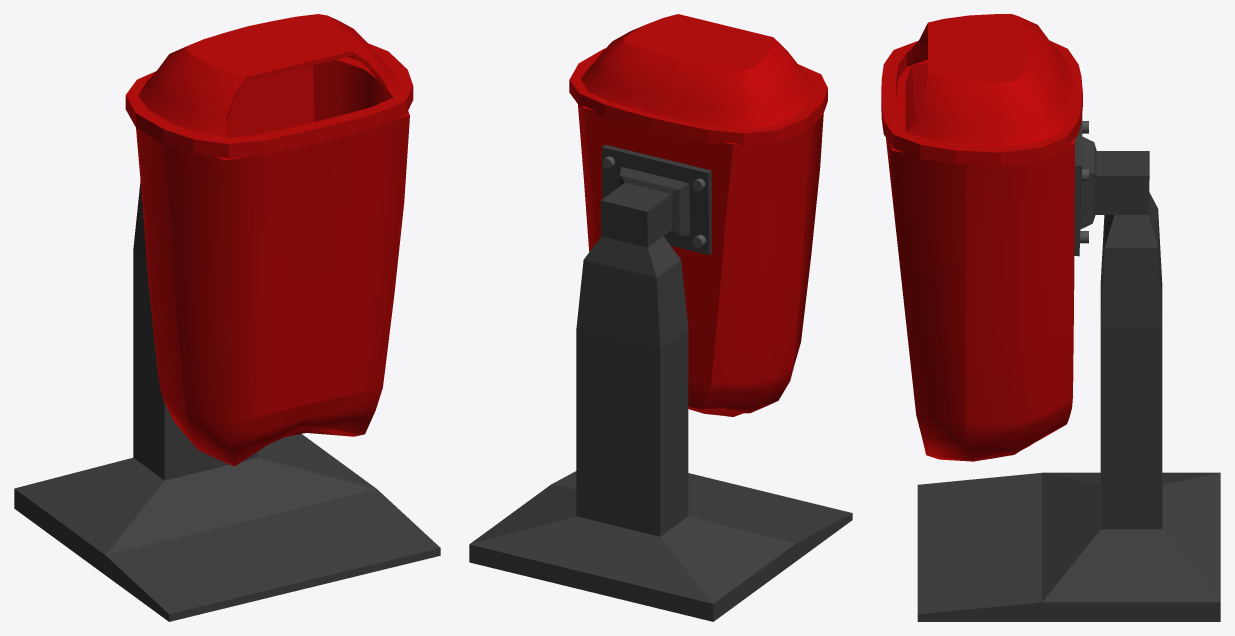
The model's file is redbin.fbx.
3 renders of one model, left to right at view 1: azimuth 30°, elevation 25°; view 2: azimuth 150°, elevation 25°; view 3: azimuth 270°, elevation 25°, orthographic. The views are drawn at different scales.
Parts seen in each view (by area): view 1: polySurface2, pCube3, pCube5; view 2: pCube3, polySurface2, pCube5; view 3: pCube3, polySurface2, pCube5.
Part boxes in pixels (x1=…): polySurface2: x1=136, y1=57, x2=409, y2=466; pCube3: x1=14, y1=181, x2=440, y2=621; pCube5: x1=125, y1=14, x2=413, y2=158; pCube3: x1=469, y1=144, x2=852, y2=621; polySurface2: x1=578, y1=104, x2=823, y2=416; pCube5: x1=569, y1=14, x2=827, y2=146; pCube3: x1=917, y1=115, x2=1220, y2=621; polySurface2: x1=886, y1=59, x2=1074, y2=461; pCube5: x1=881, y1=14, x2=1082, y2=166.
Size of the model in its own units: 3.08 by 5.65 by 3.41.
